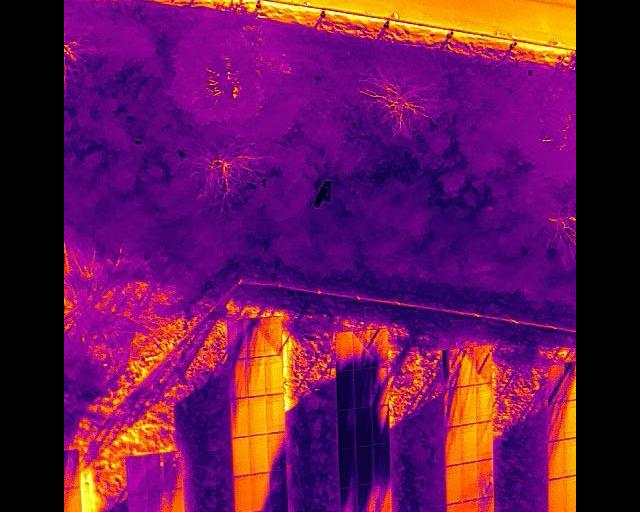No-Anomaly: (231, 436, 251, 475), (249, 434, 268, 473), (266, 393, 284, 432), (249, 395, 267, 434), (549, 476, 568, 512), (233, 474, 251, 512), (265, 354, 282, 393), (248, 357, 265, 396), (447, 464, 463, 504), (462, 423, 477, 462), (463, 461, 478, 500), (64, 487, 81, 512), (463, 499, 479, 512), (446, 502, 462, 512)
Shadowing: (351, 367, 373, 408), (337, 445, 358, 487), (336, 406, 357, 447), (368, 327, 389, 368), (373, 440, 393, 482), (370, 404, 390, 445), (335, 367, 355, 408), (162, 450, 182, 490), (334, 331, 354, 371), (267, 431, 287, 471), (351, 330, 372, 368), (356, 445, 376, 484), (127, 455, 147, 494), (353, 405, 372, 446), (228, 319, 247, 359), (269, 470, 288, 510), (250, 471, 269, 511), (229, 358, 248, 397), (230, 397, 249, 436), (548, 440, 566, 480), (548, 363, 566, 403), (548, 401, 566, 441), (263, 316, 281, 355), (460, 346, 477, 386), (247, 316, 264, 356), (474, 346, 492, 383), (146, 453, 163, 492), (476, 383, 493, 421), (477, 422, 494, 459), (446, 425, 462, 464), (460, 385, 476, 424), (478, 458, 494, 497), (444, 348, 460, 386), (375, 479, 393, 512), (64, 449, 80, 486), (446, 387, 461, 425), (357, 482, 375, 512), (340, 486, 358, 512), (165, 488, 184, 512), (147, 491, 167, 512), (129, 493, 149, 512), (478, 496, 495, 512)
